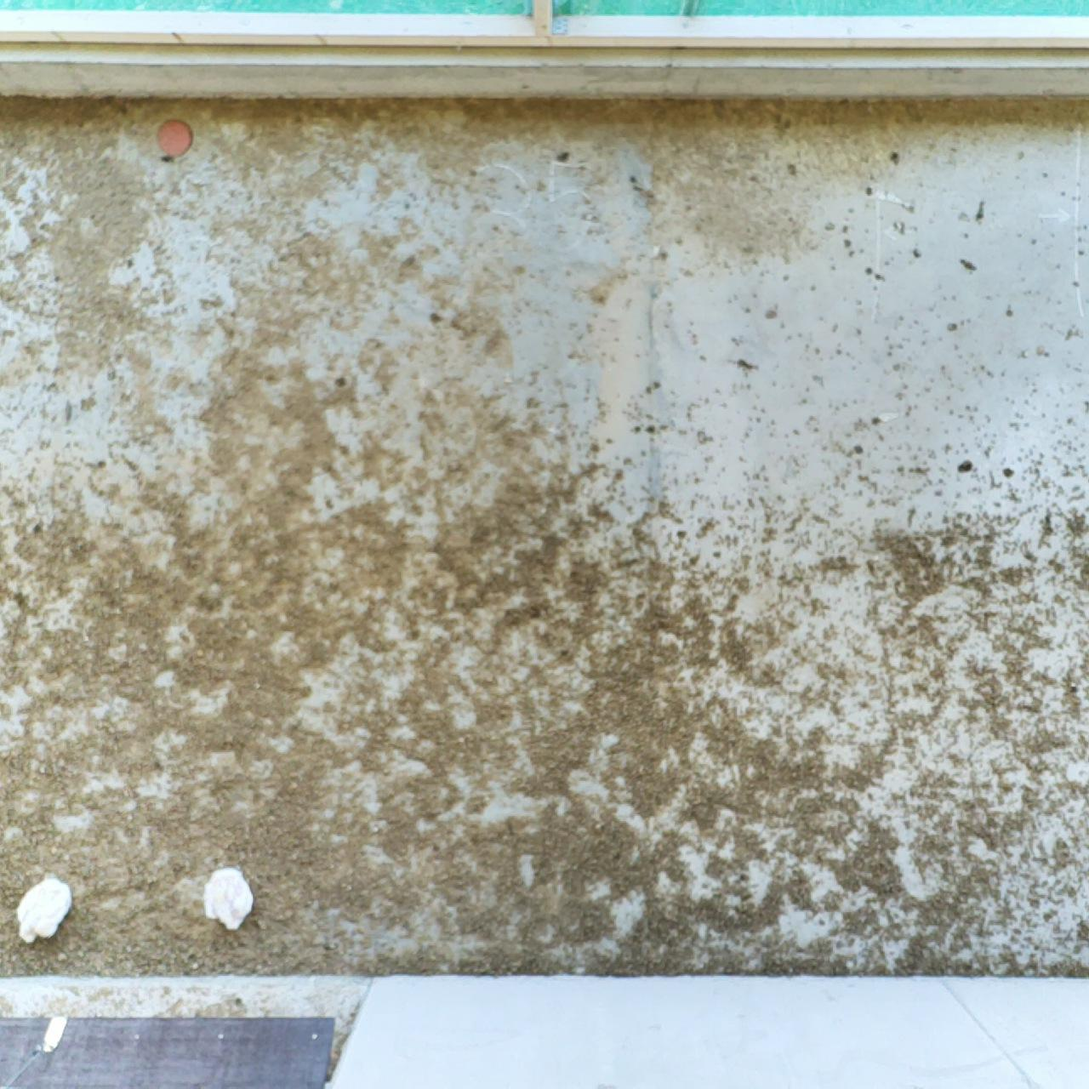chicken: (12, 867, 75, 949), (198, 861, 256, 936)
